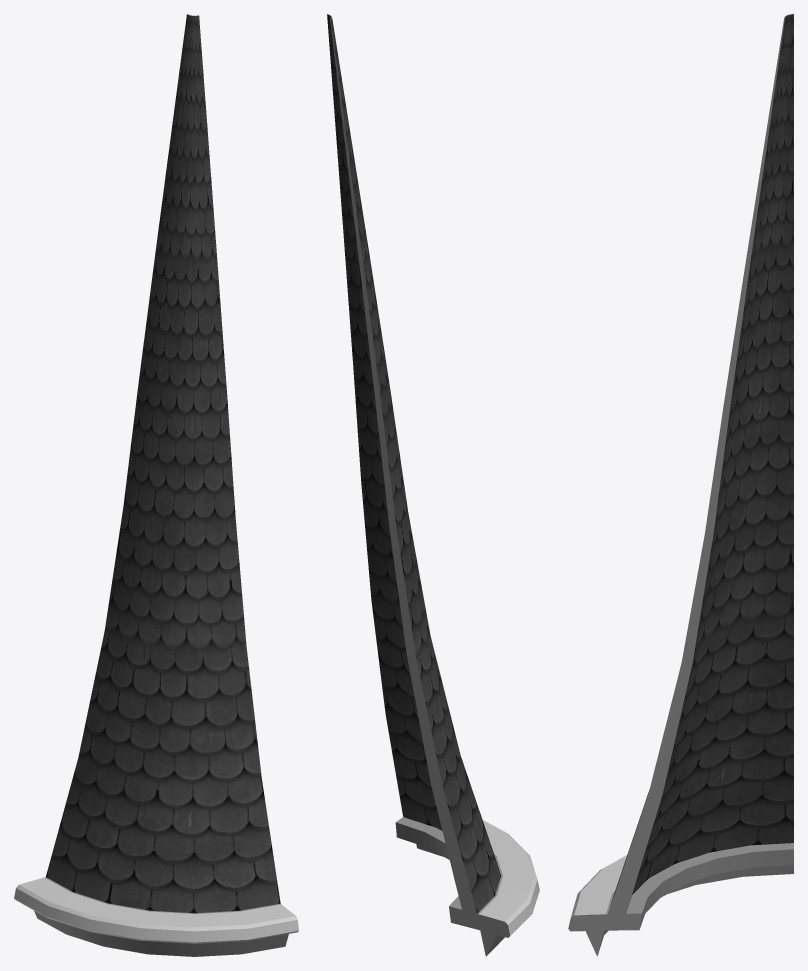
File: SM_RoundRoof_B_001.FBX
The picture shows the model from 3 angles, left to right: view 1: azimuth 30°, elevation 25°; view 2: azimuth 150°, elevation 25°; view 3: azimuth 270°, elevation 25°; orthographic projection. The views are drawn at different scales.
Visible parts, largest first — view 1: SM_RoundRoof_B_001; view 2: SM_RoundRoof_B_001; view 3: SM_RoundRoof_B_001.
Part boxes in pixels (x1,y1,x2,y2): SM_RoundRoof_B_001: (14, 14, 298, 956); SM_RoundRoof_B_001: (327, 14, 539, 956); SM_RoundRoof_B_001: (568, 14, 793, 956).
Size of the model in its own units: 272 by 1248 by 272.
